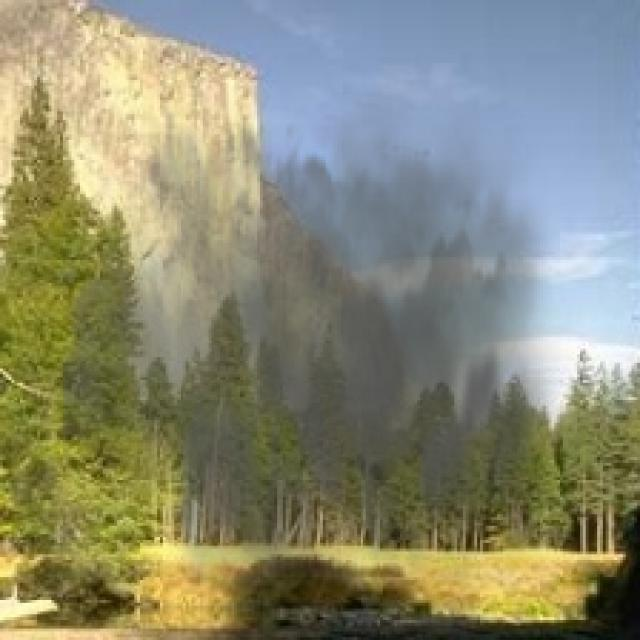Smoke: (63, 57, 583, 609)
